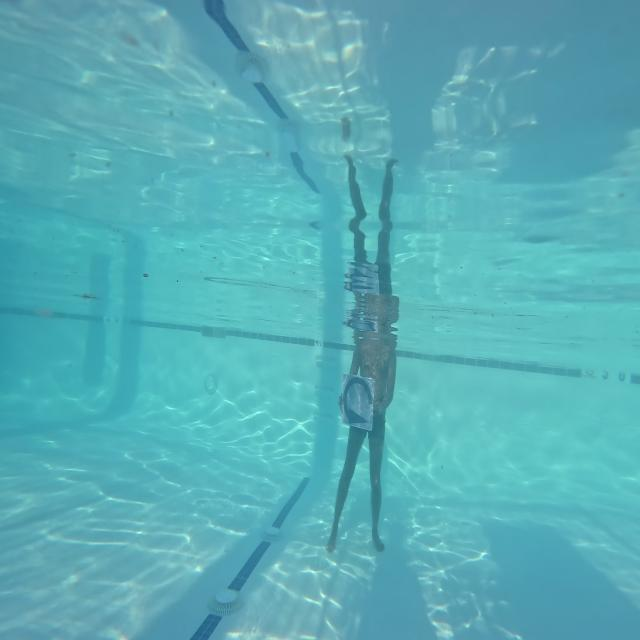blue_side: (339, 375, 380, 433)
